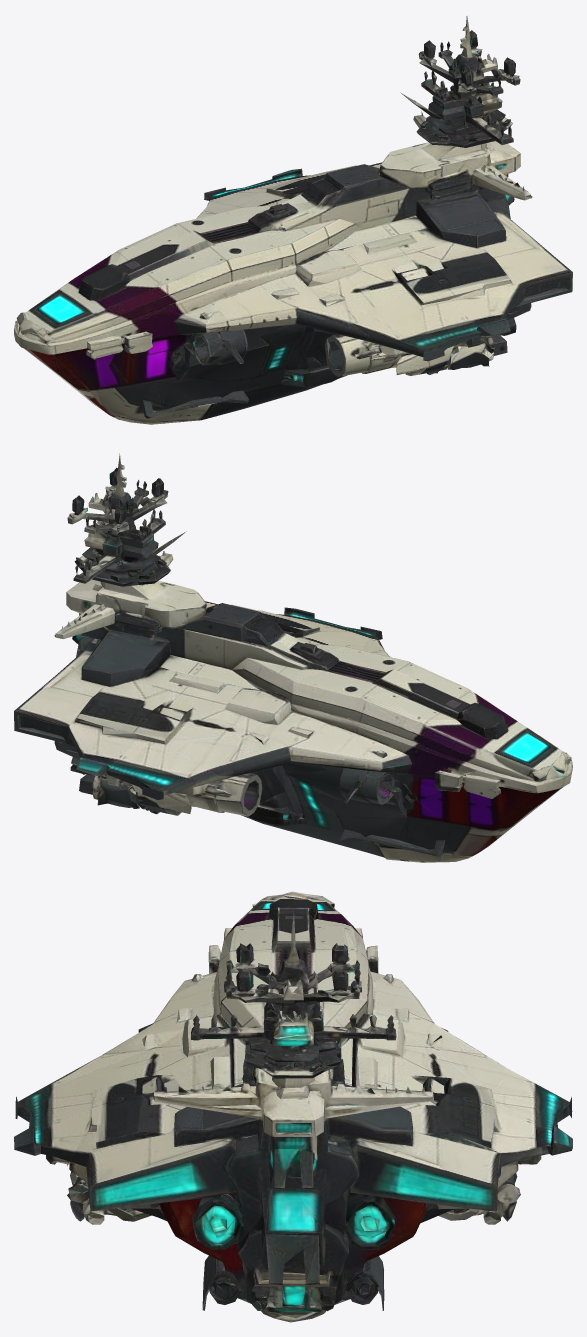
The model's file is vessel-sovereign.glb.
The picture shows the model from 3 angles, top to bottom: view 1: azimuth 30°, elevation 25°; view 2: azimuth 150°, elevation 25°; view 3: azimuth 270°, elevation 25°; orthographic projection. The views are drawn at different scales.
Bounding box in the file's own units: 1.9 × 1.21 × 1.42.
1 material, 1 textured.
